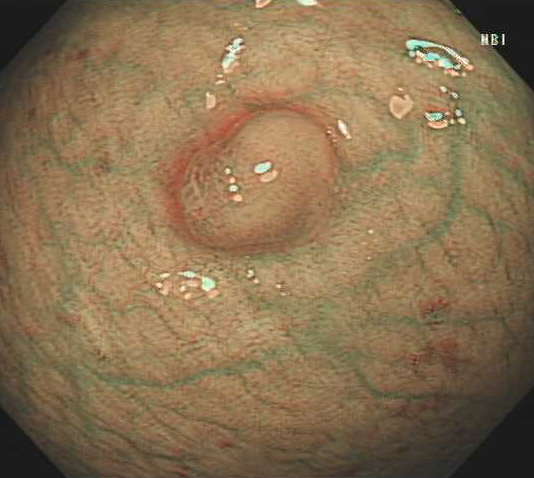adenoma: (171, 105, 339, 251)
